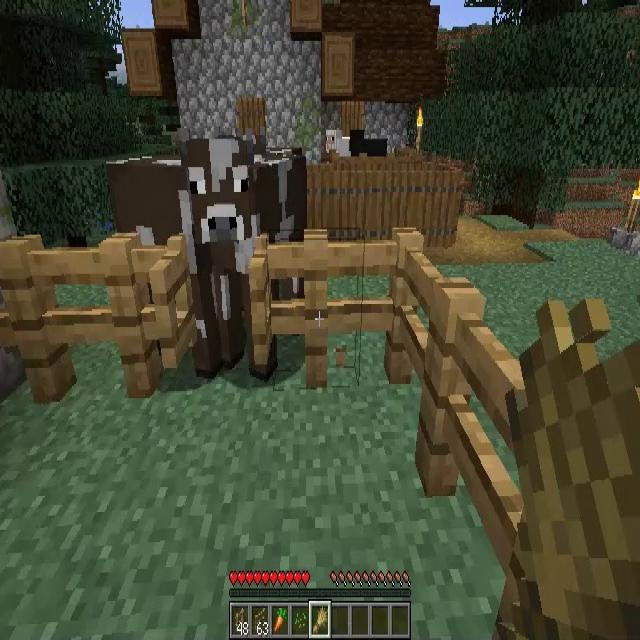cow: (192, 140, 308, 372), (109, 152, 195, 254)
sheep: (350, 131, 388, 157), (325, 130, 350, 156)
